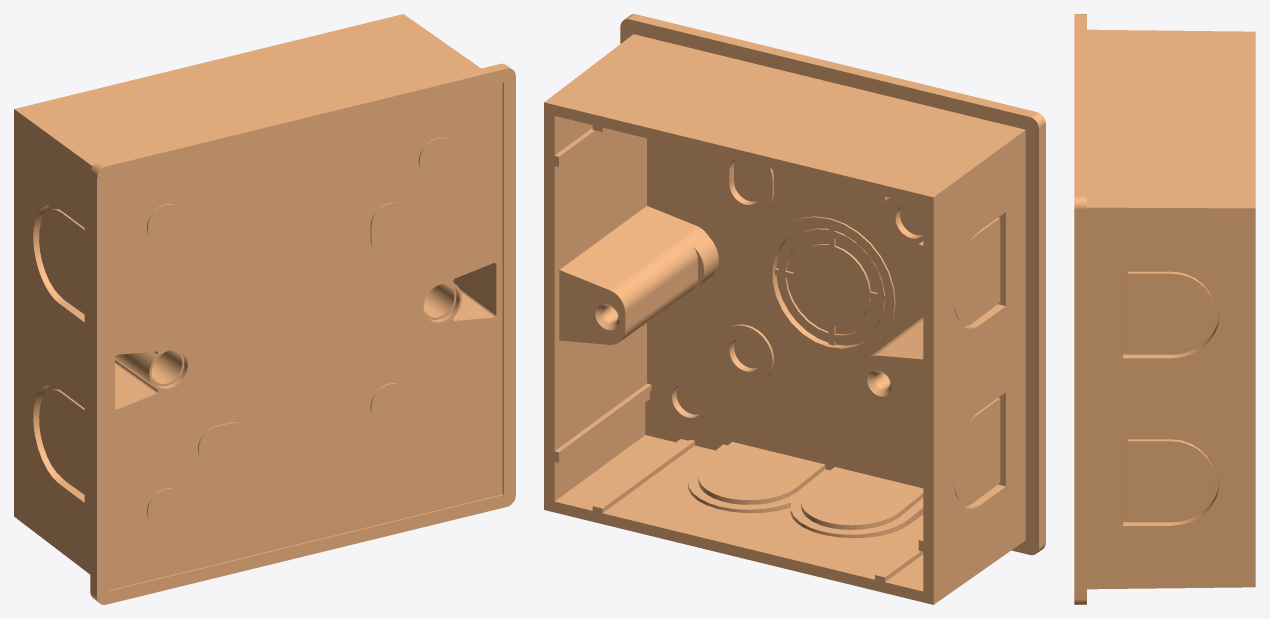
The model's file is Sunbox.gltf.
3 renders of one model, left to right at view 1: azimuth 30°, elevation 25°; view 2: azimuth 150°, elevation 25°; view 3: azimuth 270°, elevation 25°, orthographic. The views are drawn at different scales.
Visible parts, largest first — view 1: 2.19.12; view 2: 2.19.12; view 3: 2.19.12.
Part boxes in pixels (x1,y1,x2,y2): 2.19.12: (14, 14, 515, 604); 2.19.12: (544, 14, 1045, 604); 2.19.12: (1074, 14, 1255, 604).
Size of the model in its own units: 0.0923 by 0.0923 by 0.0373.
